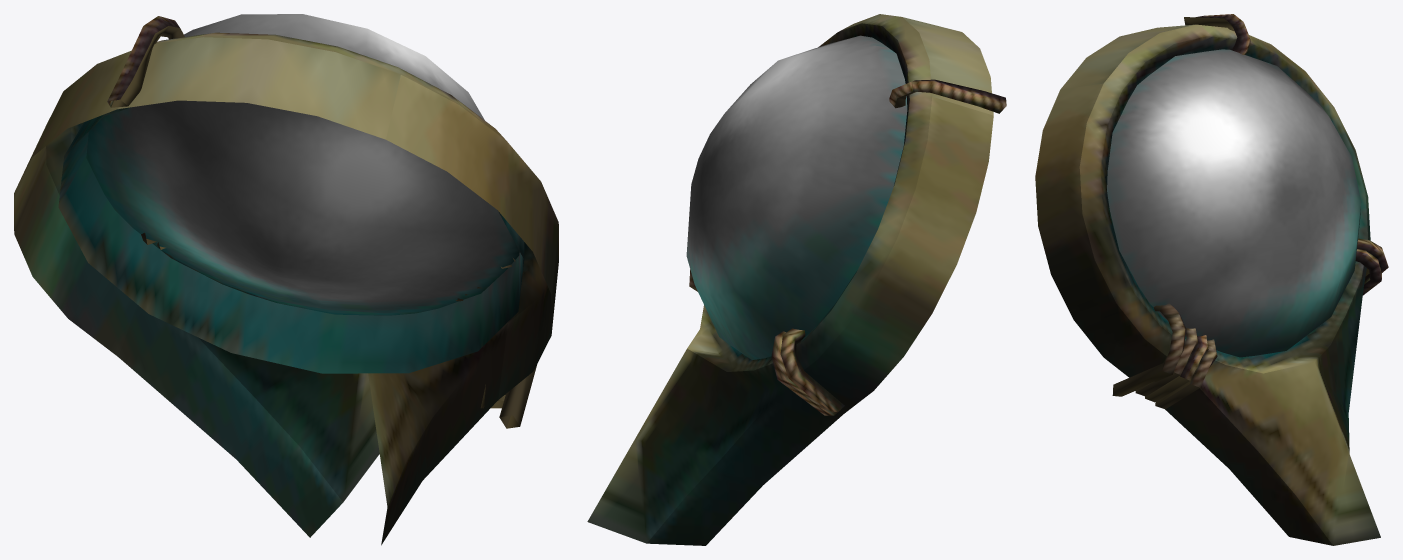
Rendered from F_Selector.fbx.
3 views of the same model, side by side, from view 1: azimuth 30°, elevation 25°; view 2: azimuth 150°, elevation 25°; view 3: azimuth 270°, elevation 25° (orthographic). The views are drawn at different scales.
Parts seen in each view (by area): view 1: F_SelectorFrame001, F_SelectorStatus001; view 2: F_SelectorFrame001, F_SelectorStatus001; view 3: F_SelectorFrame001, F_SelectorStatus001.
Boxes of the visible parts, bbox=[...] form: F_SelectorFrame001: bbox=[14, 16, 558, 545]; F_SelectorStatus001: bbox=[58, 14, 524, 373]; F_SelectorFrame001: bbox=[587, 14, 1006, 545]; F_SelectorStatus001: bbox=[686, 35, 907, 359]; F_SelectorFrame001: bbox=[1035, 14, 1388, 545]; F_SelectorStatus001: bbox=[1107, 49, 1361, 357].
Bounding box in the file's own units: 0.2756 × 0.3736 × 0.2756.
2 materials, 2 textured.
